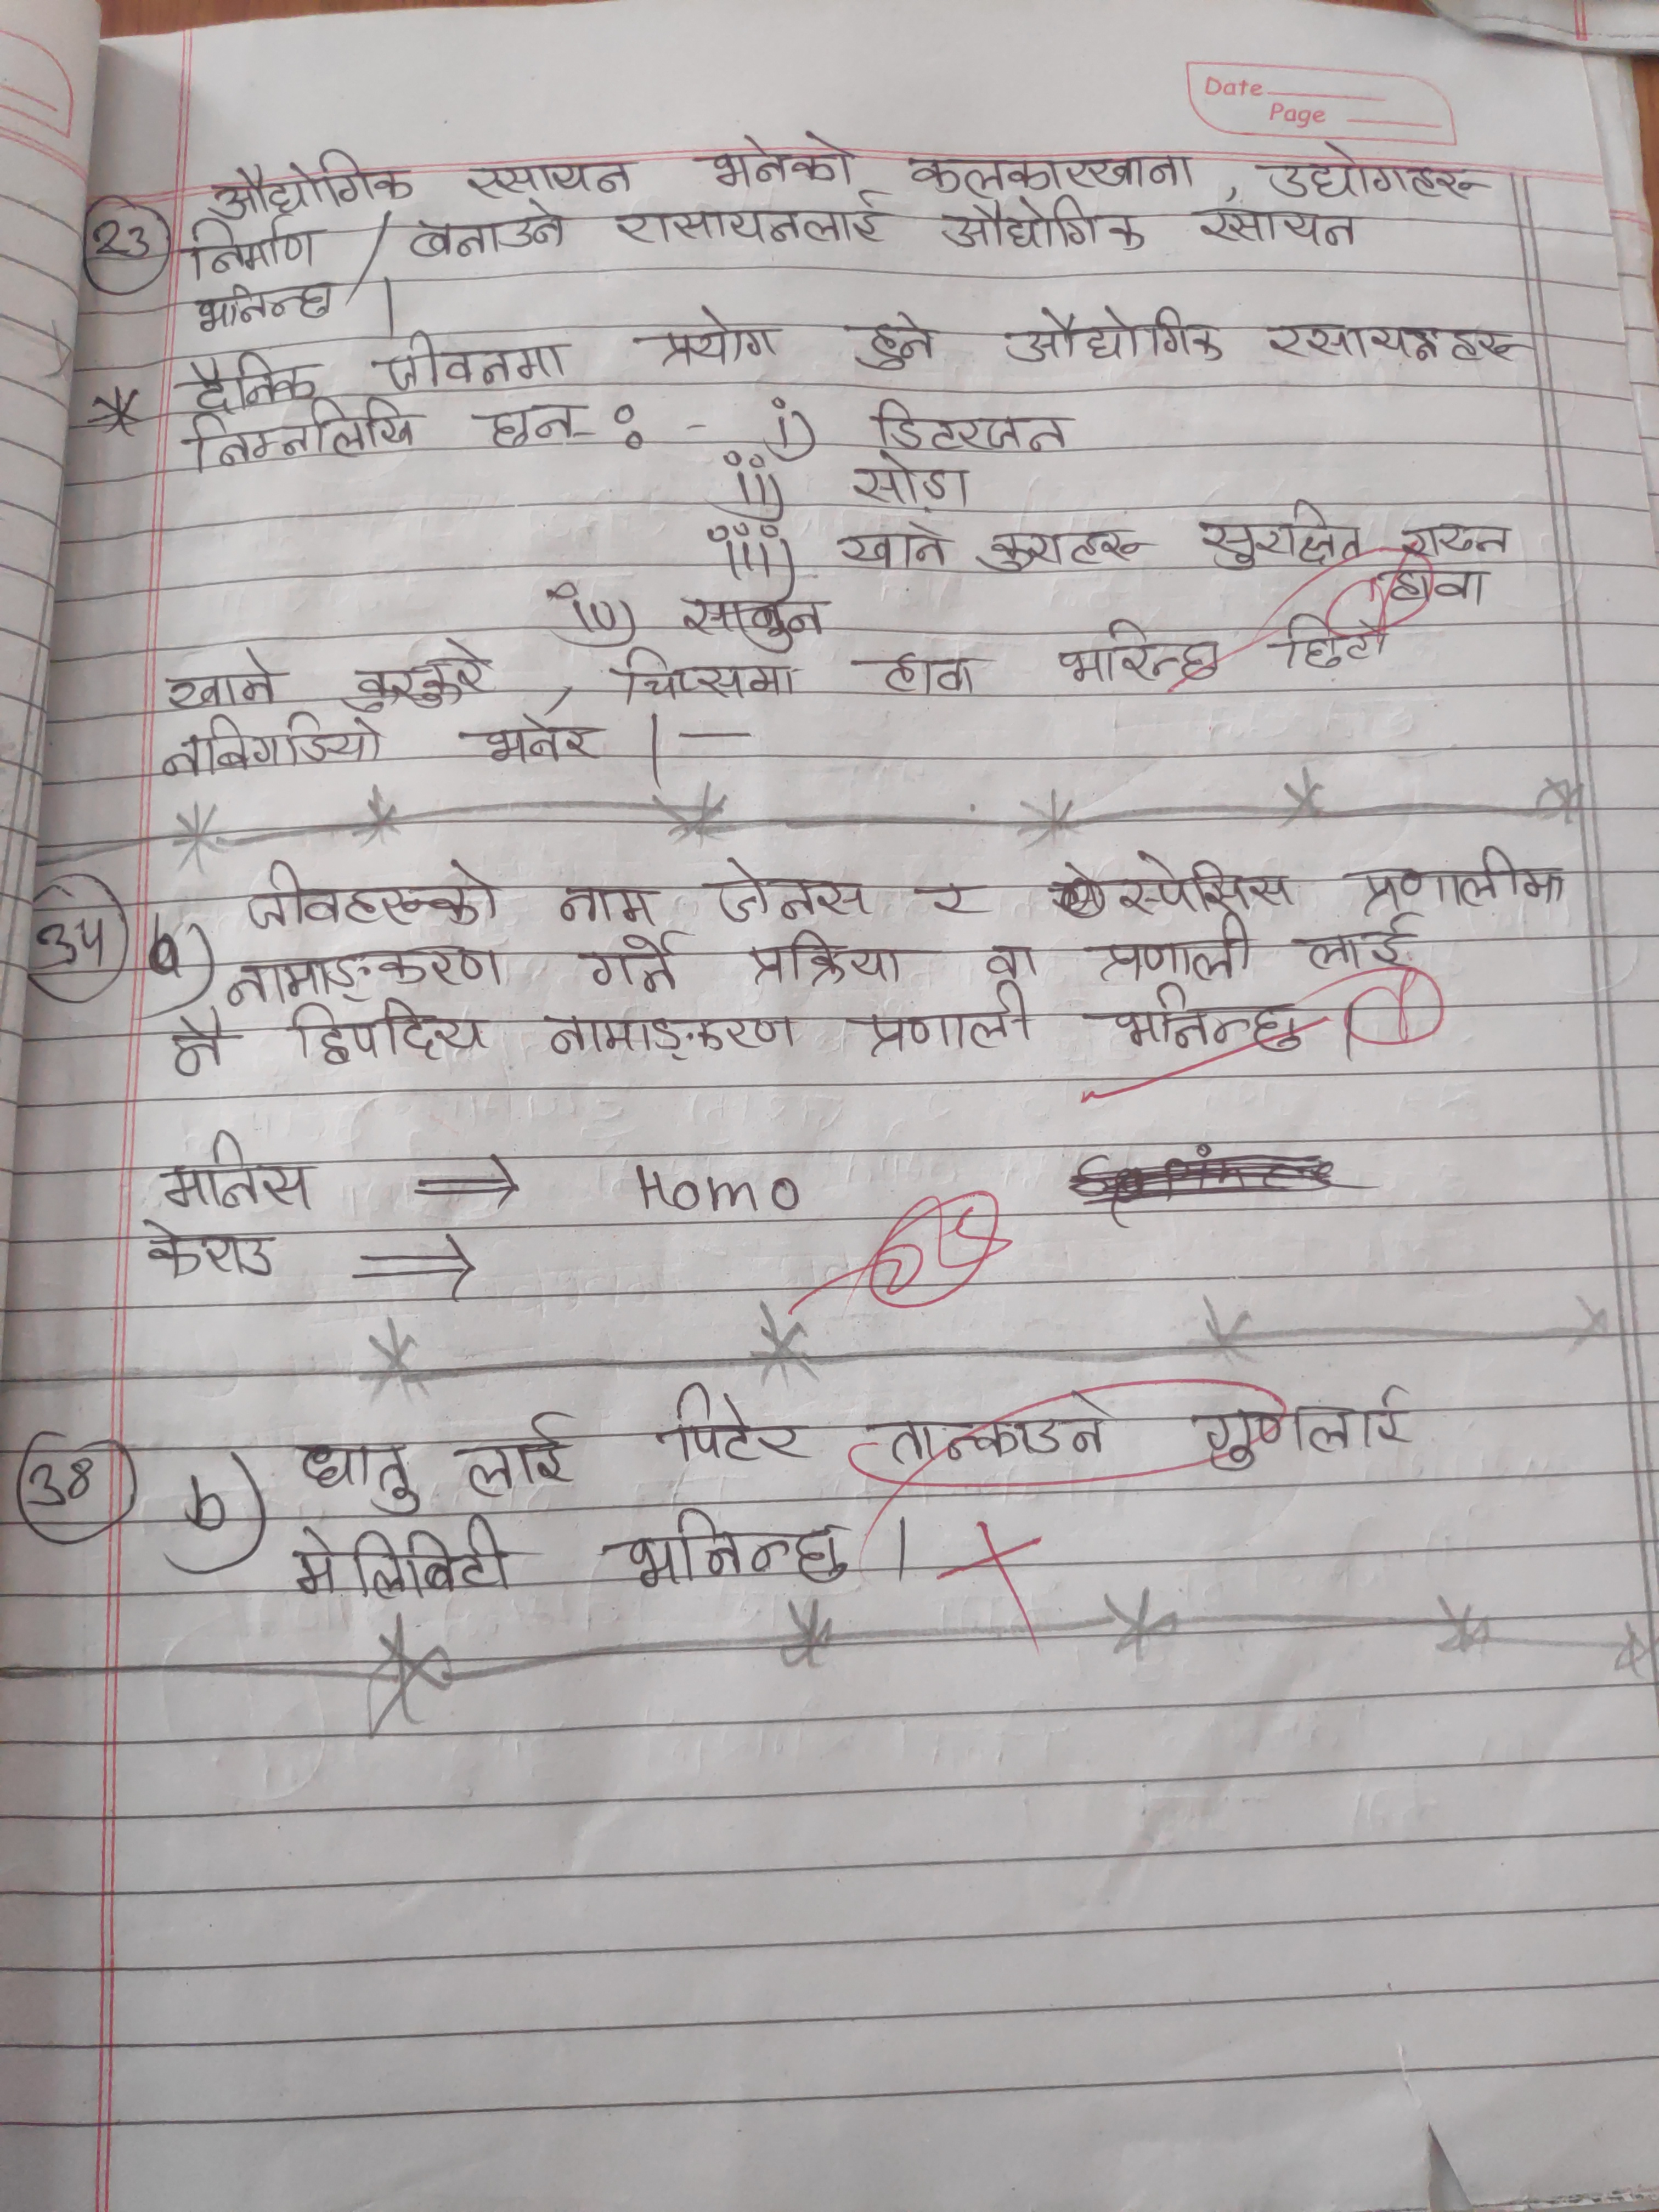text: (240, 855, 507, 932), (617, 1505, 861, 1588), (1192, 1383, 1412, 1470), (286, 1521, 521, 1599), (877, 1390, 1117, 1467), (218, 944, 518, 1005), (606, 190, 896, 247), (202, 148, 425, 221), (1347, 841, 1574, 913), (178, 408, 429, 472), (897, 148, 1202, 199), (850, 979, 1040, 1059), (1100, 982, 1307, 1055), (995, 301, 1230, 366), (159, 716, 390, 780), (157, 1129, 321, 1219), (1262, 141, 1493, 204), (289, 1000, 495, 1069), (535, 1007, 807, 1059), (1110, 845, 1305, 916), (1256, 315, 1532, 366), (936, 193, 1155, 256), (660, 1378, 816, 1461), (373, 329, 586, 390), (1056, 617, 1223, 690), (708, 850, 875, 923), (1194, 502, 1368, 570), (615, 637, 796, 702), (448, 1407, 579, 1494), (871, 395, 1075, 451), (295, 1437, 429, 1521), (1094, 914, 1256, 982), (342, 637, 491, 709), (178, 343, 333, 411), (403, 199, 572, 260), (742, 927, 911, 988), (702, 129, 861, 193), (134, 1219, 282, 1285), (680, 592, 835, 655), (179, 212, 326, 277), (647, 303, 784, 369), (460, 155, 641, 202), (160, 648, 288, 714), (840, 451, 985, 509), (974, 529, 1154, 575), (1192, 202, 1363, 249), (474, 711, 605, 768), (192, 284, 340, 334), (1297, 913, 1422, 972), (1366, 556, 1495, 611), (1277, 608, 1394, 669), (831, 519, 951, 575), (579, 934, 687, 995), (845, 308, 946, 371), (481, 397, 589, 453), (877, 646, 985, 700), (162, 1010, 242, 1078), (1394, 521, 1513, 559), (558, 888, 664, 930), (915, 874, 986, 923), (976, 941, 1051, 977)
